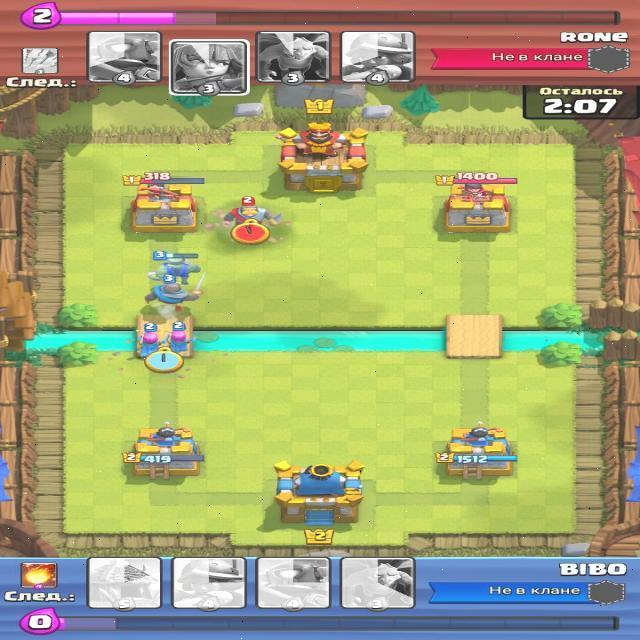EKingTower: (278, 123, 367, 191)
EKnight: (223, 196, 281, 226)
EnemyPrincessTower: (444, 180, 510, 232), (131, 181, 197, 231)
OArcher: (136, 323, 166, 358), (170, 321, 191, 357)
OBrawler: (148, 252, 202, 285)
OKnight: (145, 281, 202, 317)
OwnKingTower: (274, 461, 363, 527)
OwnPrincessTower: (435, 423, 516, 478), (133, 424, 203, 477)
